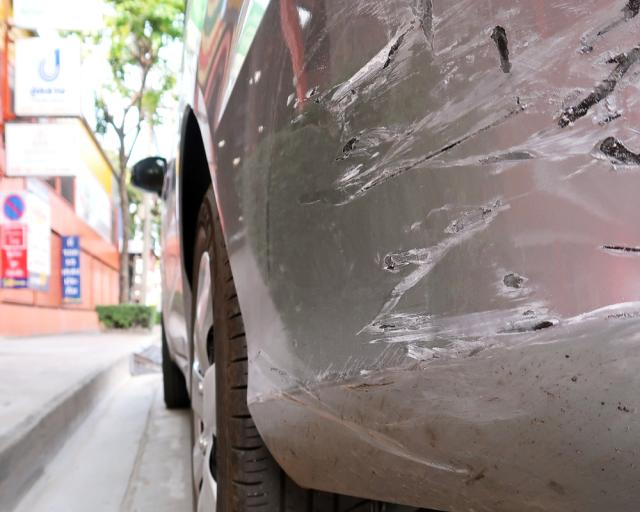scratch: (253, 0, 640, 488)
